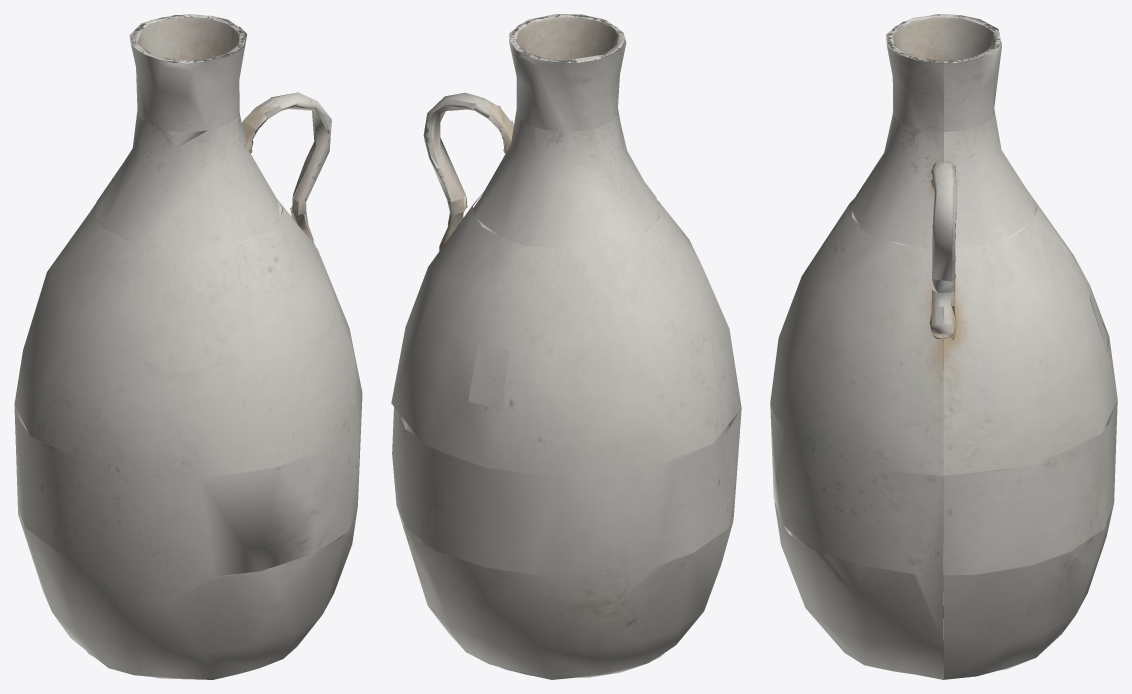
The model's file is ceramic_vase_04.glb.
3 renders of one model, left to right at view 1: azimuth 30°, elevation 25°; view 2: azimuth 150°, elevation 25°; view 3: azimuth 270°, elevation 25°, orthographic.
Parts seen in each view (by area): view 1: lod0; view 2: lod0; view 3: lod0.
Boxes of the visible parts, x1,y1,x2,y2 form: lod0: [14, 14, 362, 679]; lod0: [391, 14, 741, 679]; lod0: [770, 14, 1117, 679].
Size of what is drawn, in the model's own units: 0.1833 by 0.3425 by 0.1815.
Materials: 1 (1 with a texture image).
